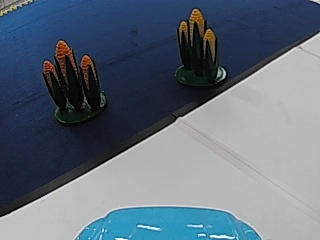corn: (40, 36, 110, 122), (173, 5, 226, 87)
